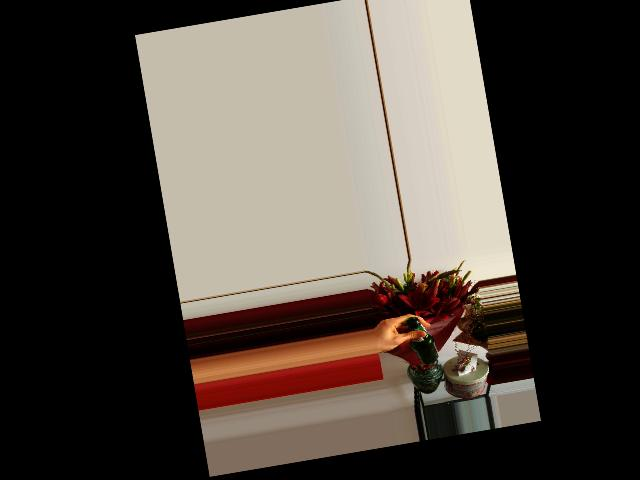beer: (405, 314, 439, 366)
